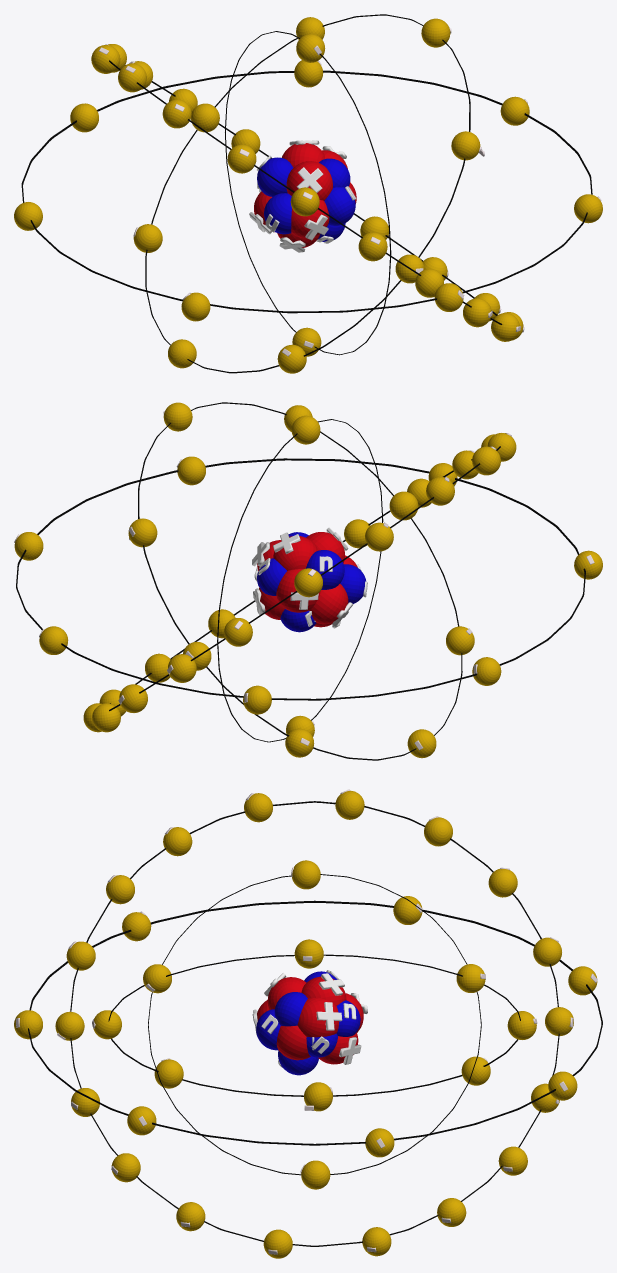
3 views of the same model, one above another, from view 1: azimuth 30°, elevation 25°; view 2: azimuth 150°, elevation 25°; view 3: azimuth 270°, elevation 25° (orthographic).
Parts seen in each view (by area): view 1: Circle.003, Circle.001, Circle, Sphere.015, Sphere.014, Circle.002, Sphere.012, Sphere.018, Sphere.007, Sphere.013, Sphere.016, Sphere.026 (+25 smaller); view 2: Circle.003, Circle.001, Circle, Sphere.011, Sphere.007, Sphere.015, Circle.002, Sphere.005, Sphere.018, Sphere.003, Sphere.027, Sphere.038 (+27 smaller); view 3: Circle.003, Circle.002, Circle.001, Circle, Sphere.030, Sphere, Sphere.024, Sphere.002, Sphere.036, Sphere.041, Sphere.003, Sphere.032 (+31 smaller).
Boxes of the visible parts, x1,y1,x2,y2 form: Circle.003: (21, 70, 592, 313); Circle.001: (145, 14, 470, 373); Circle: (225, 31, 391, 355); Sphere.015: (257, 157, 293, 196); Sphere.014: (286, 161, 332, 200); Circle.002: (109, 60, 502, 324); Sphere.012: (324, 187, 355, 225); Sphere.018: (264, 193, 291, 234); Sphere.007: (281, 143, 324, 167); Sphere.013: (451, 131, 480, 160); Sphere.016: (168, 339, 196, 368); Sphere.026: (421, 18, 450, 47); Circle.003: (16, 458, 585, 700); Circle.001: (138, 402, 462, 760); Circle: (217, 419, 383, 742); Sphere.011: (309, 584, 348, 624); Sphere.007: (273, 536, 318, 570); Sphere.015: (306, 550, 344, 589); Circle.002: (109, 446, 500, 711); Sphere.005: (276, 569, 320, 612); Sphere.018: (340, 564, 366, 603); Sphere.003: (291, 415, 320, 444); Sphere.027: (257, 558, 286, 595); Sphere.038: (92, 703, 120, 732); Circle.003: (28, 900, 602, 1145); Circle.002: (70, 801, 559, 1246); Circle.001: (108, 954, 520, 1096); Circle: (148, 874, 481, 1175); Sphere.030: (297, 997, 339, 1037); Sphere: (276, 1025, 310, 1060); Sphere.024: (274, 992, 307, 1026); Sphere.002: (301, 1160, 330, 1189); Sphere.036: (335, 790, 364, 819); Sphere.041: (424, 817, 452, 846); Sphere.003: (292, 860, 320, 889); Sphere.032: (66, 941, 95, 970).
Bounding box in the file's own units: 101 × 62.06 × 102.
